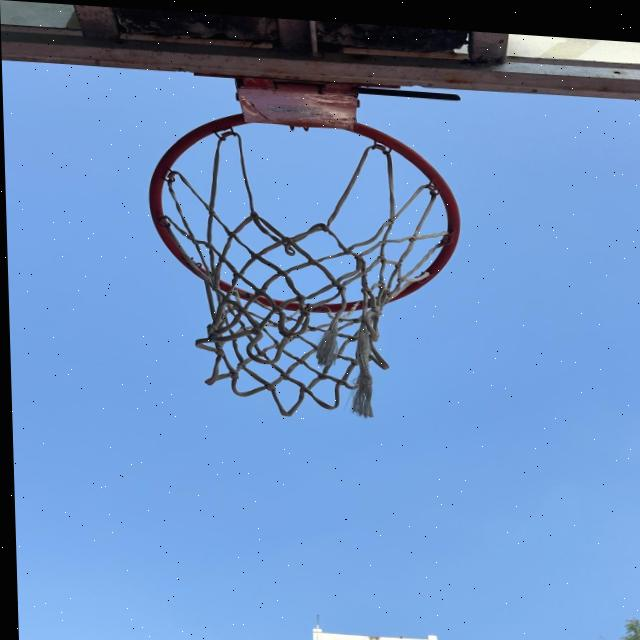hoop: (110, 57, 483, 444)
